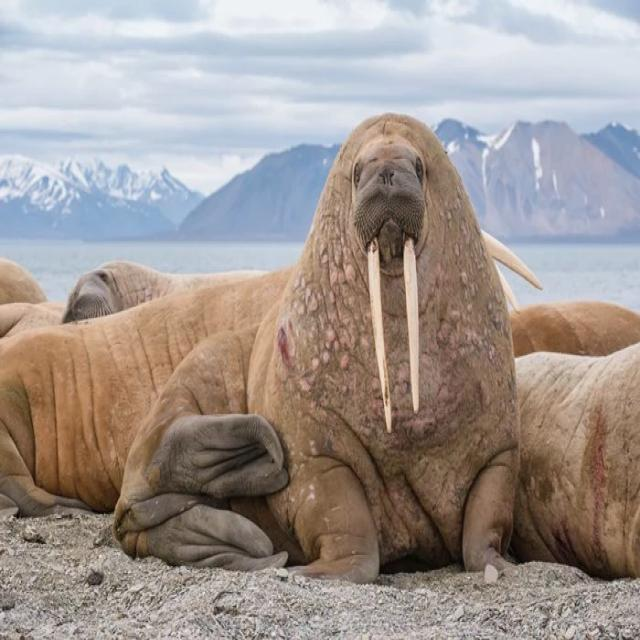walrus: (102, 54, 574, 612)
